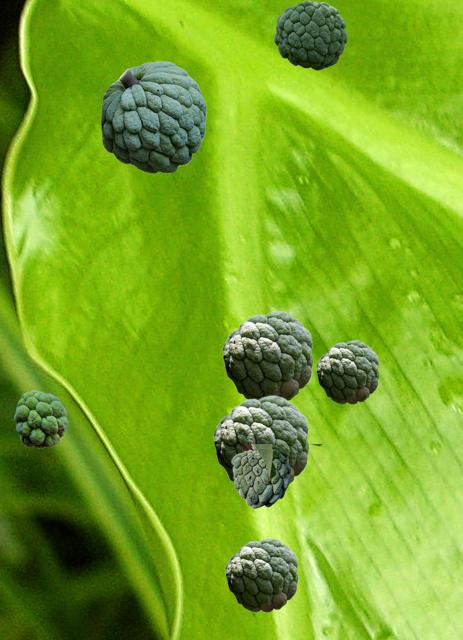atis: (101, 61, 205, 172), (213, 395, 308, 485), (222, 311, 312, 401), (231, 444, 321, 507), (225, 538, 297, 611), (274, 0, 346, 69), (316, 340, 378, 403), (14, 390, 67, 447)
